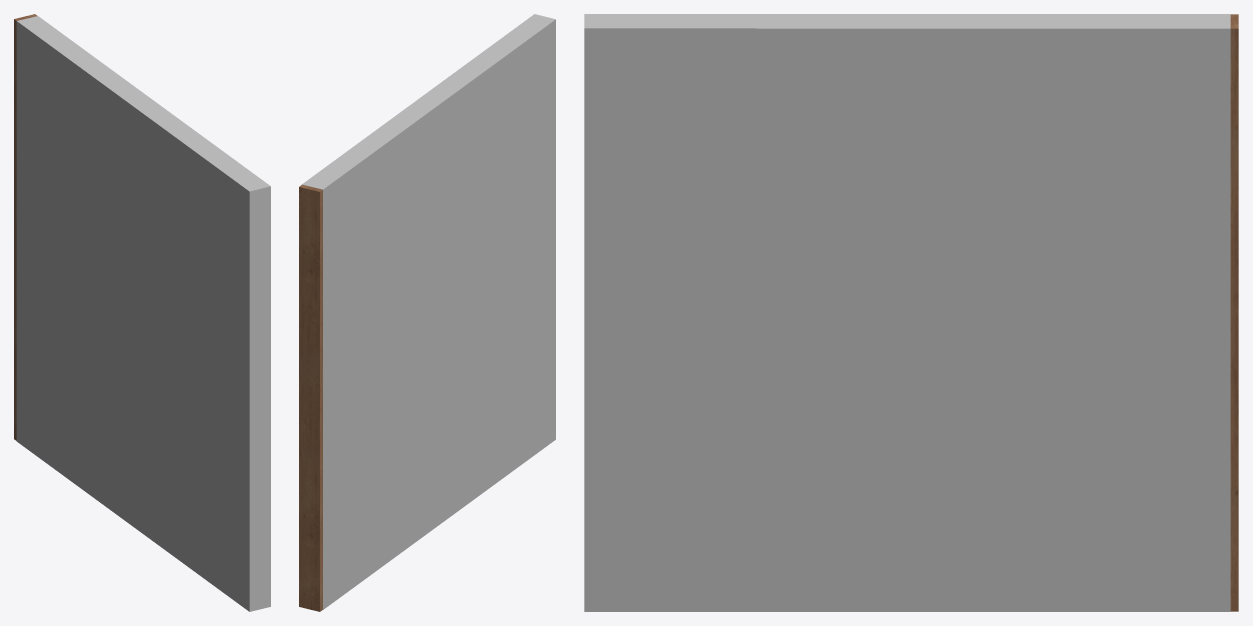
File: SM_HBJ_WoodframeB.fbx
3 views of the same model, side by side, from view 1: azimuth 30°, elevation 25°; view 2: azimuth 150°, elevation 25°; view 3: azimuth 270°, elevation 25° (orthographic). The views are drawn at different scales.
Visible parts, largest first — view 1: SM_HBJ_WoodframeB_ConvexHulls, SM_HBJ_WoodframeB; view 2: SM_HBJ_WoodframeB_ConvexHulls, SM_HBJ_WoodframeB; view 3: SM_HBJ_WoodframeB_ConvexHulls, SM_HBJ_WoodframeB.
Boxes of the visible parts, x1,y1,x2,y2 form: SM_HBJ_WoodframeB_ConvexHulls: (16,16,270,611); SM_HBJ_WoodframeB: (14,14,37,440); SM_HBJ_WoodframeB_ConvexHulls: (302,14,555,609); SM_HBJ_WoodframeB: (299,185,322,611); SM_HBJ_WoodframeB_ConvexHulls: (584,14,1230,611); SM_HBJ_WoodframeB: (1230,14,1238,611).
Bounding box in the file's own units: 12.25 × 233 × 230.
Materials: 2 (1 with a texture image).
